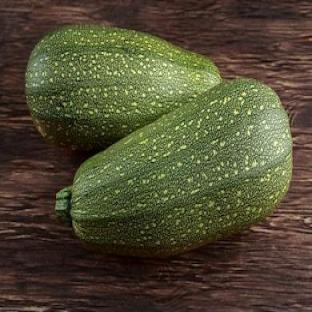Zucchini: (56, 80, 291, 256), (26, 26, 220, 149)
